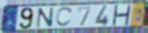4: (94, 5, 110, 27)
7: (77, 6, 92, 28)
9: (18, 6, 36, 30)
C: (55, 6, 74, 28)
H: (111, 5, 132, 26)
N: (36, 7, 55, 29)
